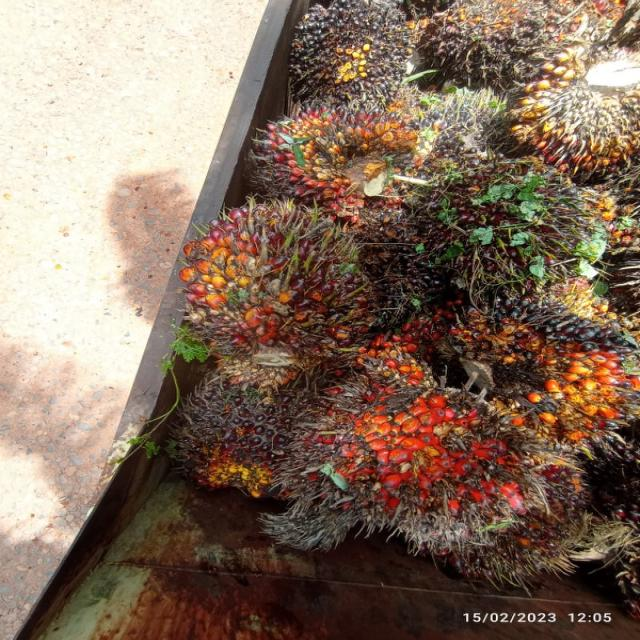fraksi 00: (431, 263, 640, 455), (387, 126, 592, 294), (240, 81, 468, 221), (161, 354, 336, 522), (412, 0, 598, 94), (276, 0, 428, 113)
fraksi 1: (153, 180, 393, 378)
fraksi 4: (276, 339, 542, 558)
